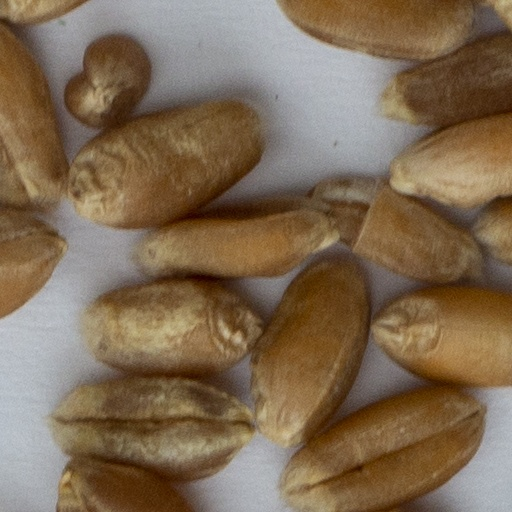Wheat-grain-damaged-poly: (64, 34, 152, 124)
